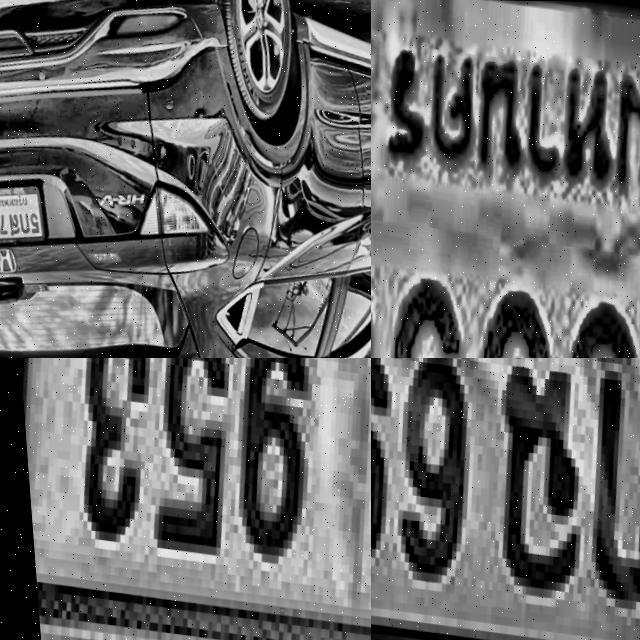license-plate: (0, 358, 371, 640), (371, 0, 640, 358), (371, 358, 640, 640), (0, 165, 49, 254)
